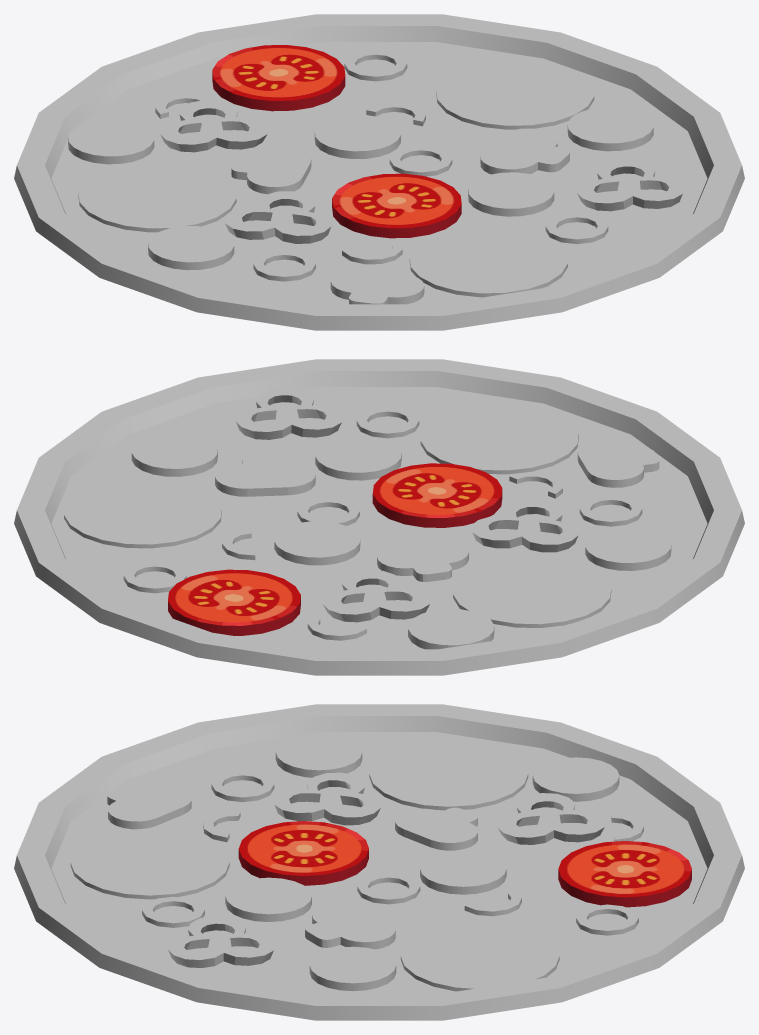
Rendered from Pizza.fbx.
The picture shows the model from 3 angles, top to bottom: view 1: azimuth 30°, elevation 25°; view 2: azimuth 150°, elevation 25°; view 3: azimuth 270°, elevation 25°; orthographic projection.
Parts seen in each view (by area): view 1: Circle, Ham_Slice, Ham_Slice.002, Ham_Slice.001, Tomato_Slice.002, Tomato_Slice.001, Pepper_Slice, Pepper_Slice.003, Pepper_Slice.001, Mushroom_Slice.002, Salami_Slice.004, Salami_Slice.001 (+12 smaller); view 2: Circle, Ham_Slice, Ham_Slice.001, Ham_Slice.002, Tomato_Slice.002, Tomato_Slice.001, Pepper_Slice, Pepper_Slice.003, Mushroom_Slice.002, Pepper_Slice.001, Salami_Slice.005, Salami_Slice.001 (+12 smaller); view 3: Circle, Ham_Slice.002, Ham_Slice.001, Ham_Slice, Tomato_Slice.002, Tomato_Slice.001, Pepper_Slice, Pepper_Slice.003, Pepper_Slice.001, Mushroom_Slice.002, Salami_Slice.001, Salami_Slice.005 (+12 smaller).
Boxes of the visible parts, bbox=[...] form: Circle: bbox=[14, 14, 744, 330]; Ham_Slice: bbox=[436, 59, 594, 129]; Ham_Slice.002: bbox=[409, 226, 567, 297]; Ham_Slice.001: bbox=[78, 161, 236, 232]; Tomato_Slice.002: bbox=[212, 45, 345, 111]; Tomato_Slice.001: bbox=[332, 173, 461, 238]; Pepper_Slice: bbox=[160, 100, 269, 152]; Pepper_Slice.003: bbox=[224, 191, 331, 243]; Pepper_Slice.001: bbox=[577, 159, 685, 211]; Mushroom_Slice.002: bbox=[480, 128, 569, 174]; Salami_Slice.004: bbox=[468, 172, 554, 216]; Salami_Slice.001: bbox=[567, 107, 653, 151]; Circle: bbox=[14, 359, 744, 675]; Ham_Slice: bbox=[64, 477, 221, 548]; Ham_Slice.001: bbox=[453, 557, 611, 627]; Ham_Slice.002: bbox=[420, 403, 578, 474]; Tomato_Slice.002: bbox=[168, 569, 300, 635]; Tomato_Slice.001: bbox=[372, 463, 502, 527]; Pepper_Slice: bbox=[322, 570, 432, 622]; Pepper_Slice.003: bbox=[471, 500, 578, 552]; Mushroom_Slice.002: bbox=[215, 453, 315, 496]; Pepper_Slice.001: bbox=[236, 388, 344, 439]; Salami_Slice.005: bbox=[274, 521, 360, 565]; Salami_Slice.001: bbox=[131, 432, 217, 476]; Circle: bbox=[14, 704, 744, 1020]; Ham_Slice.002: bbox=[70, 828, 229, 899]; Ham_Slice.001: bbox=[369, 739, 528, 810]; Ham_Slice: bbox=[400, 922, 559, 991]; Tomato_Slice.002: bbox=[558, 841, 691, 907]; Tomato_Slice.001: bbox=[238, 821, 368, 885]; Pepper_Slice: bbox=[497, 793, 606, 844]; Pepper_Slice.003: bbox=[273, 772, 380, 825]; Pepper_Slice.001: bbox=[168, 916, 276, 967]; Mushroom_Slice.002: bbox=[305, 902, 395, 949]; Salami_Slice.001: bbox=[309, 946, 396, 991]; Salami_Slice.005: bbox=[420, 850, 506, 894].
Bounding box in the file's own units: 113 × 3.04 × 115.
